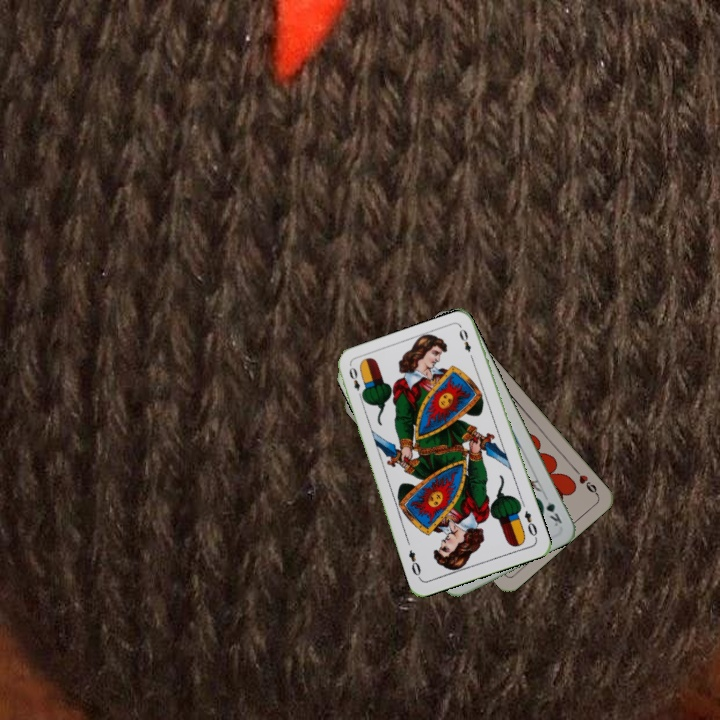EO: (345, 363, 366, 402), (520, 507, 540, 542)
GK: (535, 491, 565, 529)
H9: (570, 464, 601, 498)
